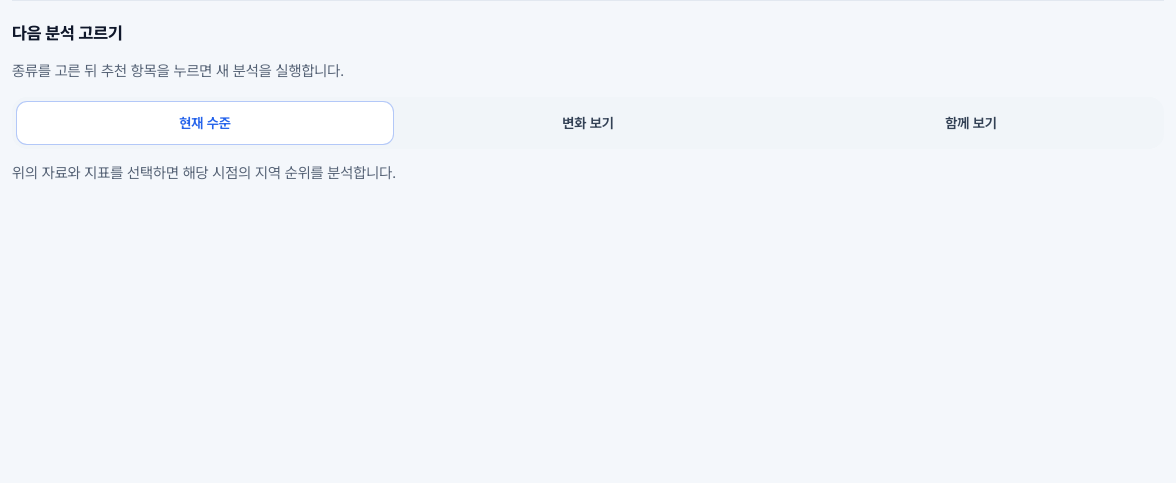
Test case: AnalysisMethods › groups cross presets and sends the exact chosen query once
Later steps or results of the test are not shown.
Click the button "함께 보기": (971, 123) [782,101,1160,145]
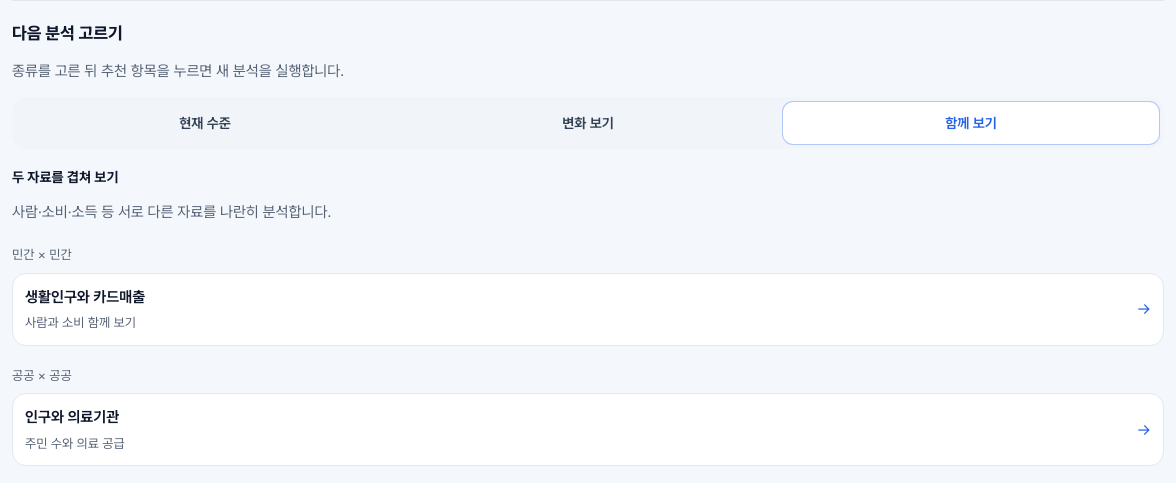
Check: the heading "민간 × 민간" is shown, box [12,247,72,262]
